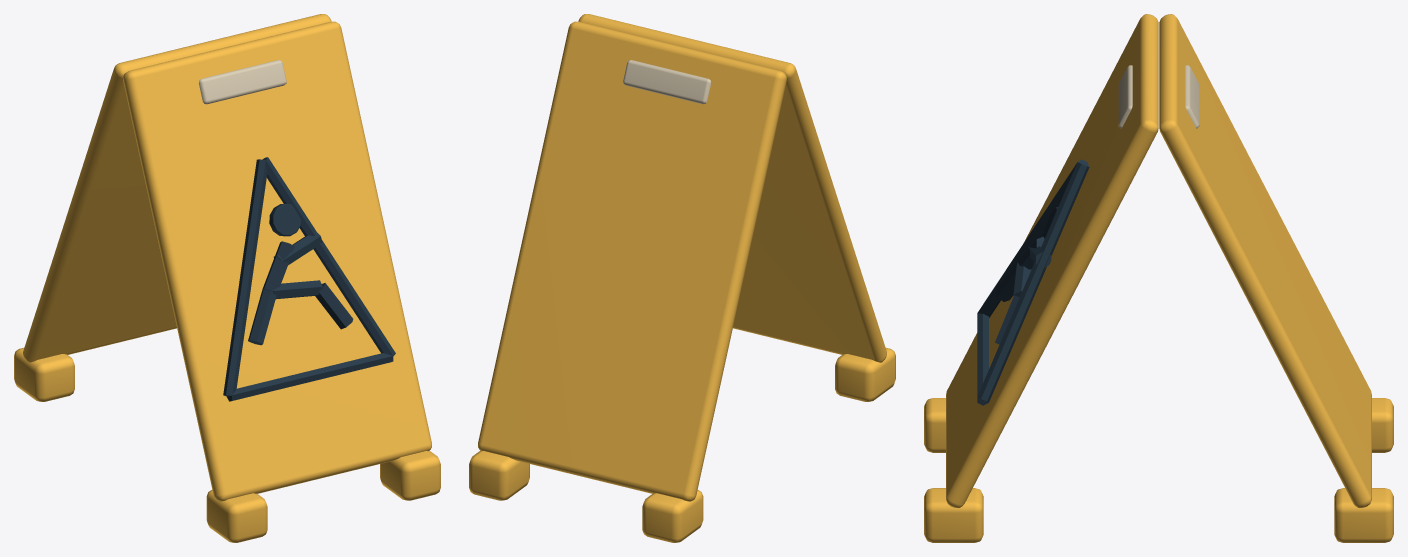
Rendered from Utility_Wet_Floor_Sign.glb.
The picture shows the model from 3 angles, left to right: view 1: azimuth 30°, elevation 25°; view 2: azimuth 150°, elevation 25°; view 3: azimuth 270°, elevation 25°; orthographic projection. The views are drawn at different scales.
Parts seen in each view (by area): view 1: Sign_Front_Hinge__Visual, Sign_Rear_Hinge__Visual; view 2: Sign_Rear_Hinge__Visual, Sign_Front_Hinge__Visual; view 3: Sign_Front_Hinge__Visual, Sign_Rear_Hinge__Visual.
Part boxes in pixels (x1=…): Sign_Front_Hinge__Visual: x1=123, y1=21, x2=440, y2=542; Sign_Rear_Hinge__Visual: x1=14, y1=14, x2=331, y2=401; Sign_Rear_Hinge__Visual: x1=469, y1=21, x2=786, y2=542; Sign_Front_Hinge__Visual: x1=578, y1=14, x2=895, y2=401; Sign_Front_Hinge__Visual: x1=924, y1=14, x2=1158, y2=542; Sign_Rear_Hinge__Visual: x1=1159, y1=14, x2=1393, y2=542.
Bounding box in the file's own units: 0.36 × 0.6365 × 0.639.
1 material, 1 textured.
